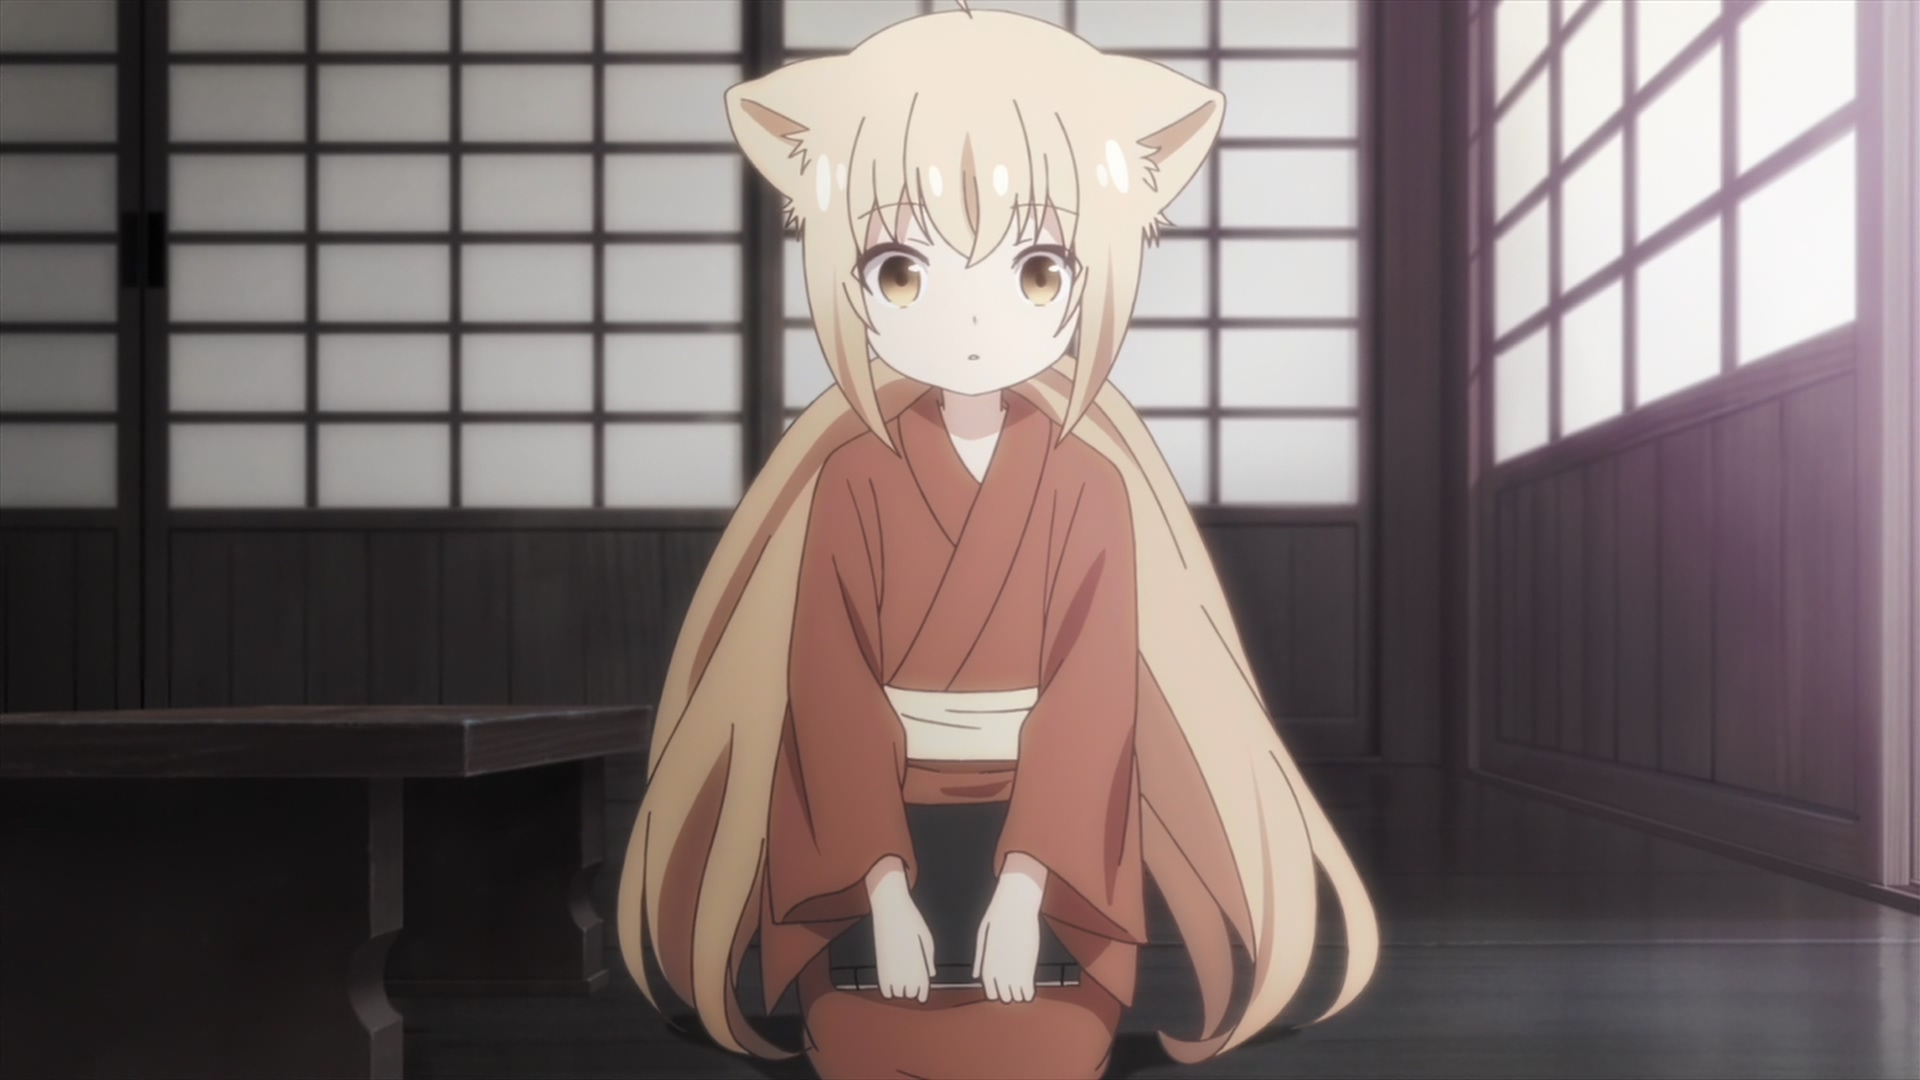柚: (617, 1, 1379, 1080)
